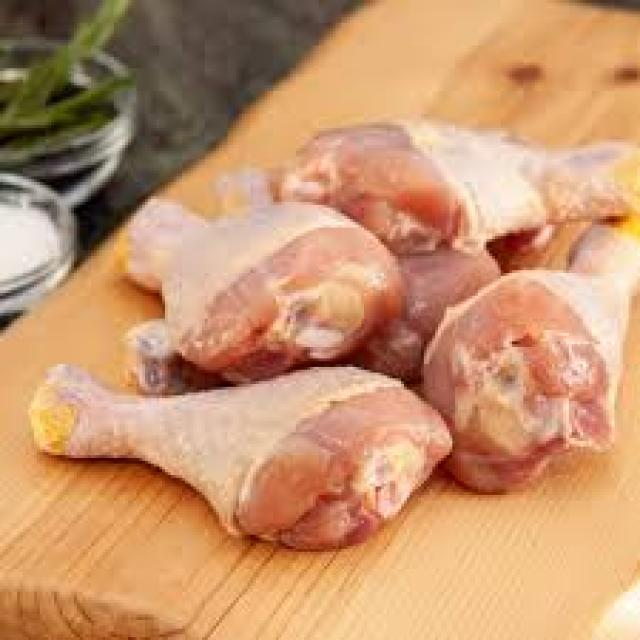leg: (30, 361, 435, 551), (432, 228, 640, 487), (120, 188, 408, 358), (292, 114, 640, 235)
